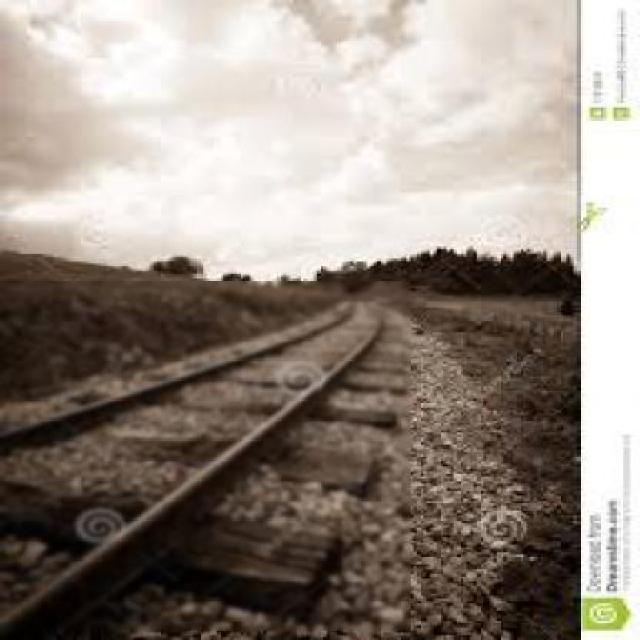rail: (1, 282, 412, 632)
